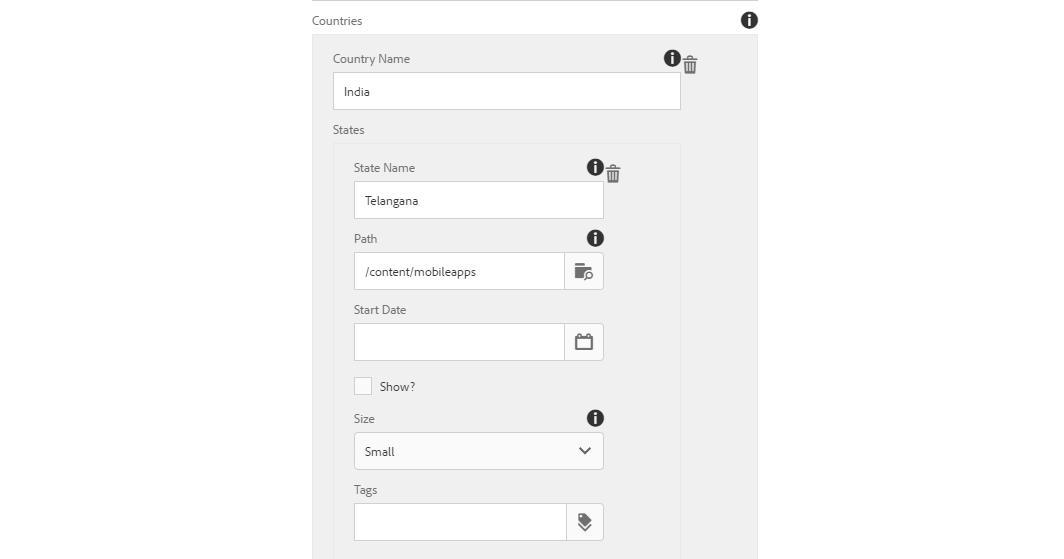checkbox: (355, 378, 373, 396)
dropdown: (356, 434, 604, 470)
icon: (571, 257, 598, 283), (573, 508, 597, 535), (739, 10, 763, 33), (575, 330, 598, 353), (587, 409, 609, 431), (683, 54, 701, 80), (663, 48, 682, 71), (586, 157, 605, 178), (606, 162, 623, 185), (587, 228, 605, 249)
input: (335, 73, 682, 110), (355, 253, 605, 291), (355, 183, 605, 220), (355, 325, 604, 362), (356, 504, 604, 541)
label: (335, 52, 412, 68), (353, 160, 419, 177), (313, 13, 367, 32), (353, 302, 410, 319), (333, 120, 370, 141), (380, 379, 418, 397), (351, 480, 386, 498), (353, 413, 380, 430), (353, 231, 379, 248)
